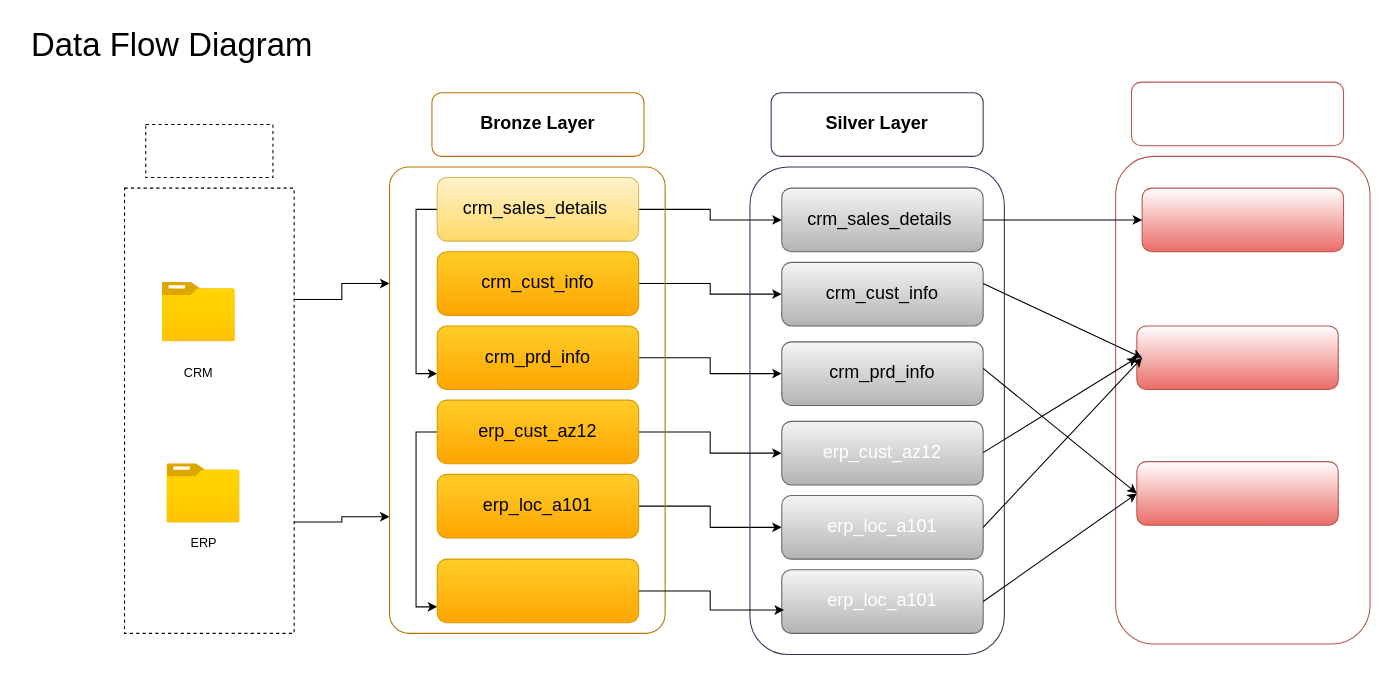
This 1389x673 diagram has some shape labels left out. Here are the shapes that lost their labels. From the top down, the centre of each, then its label:
At point 209,150: "Source".
At point 1242,219: "fact_sales".
At point 1237,357: "dim_customer".
At point 1237,493: "dim_product".
At point 537,590: "erp_px_cat_g1v2".
